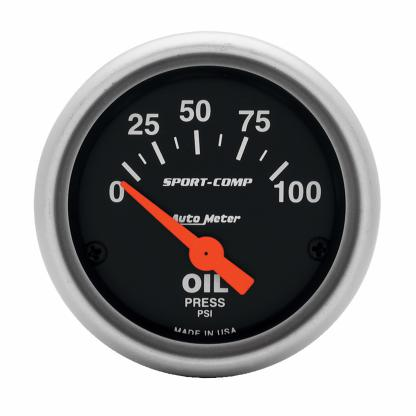needle: (120, 180, 199, 250)
